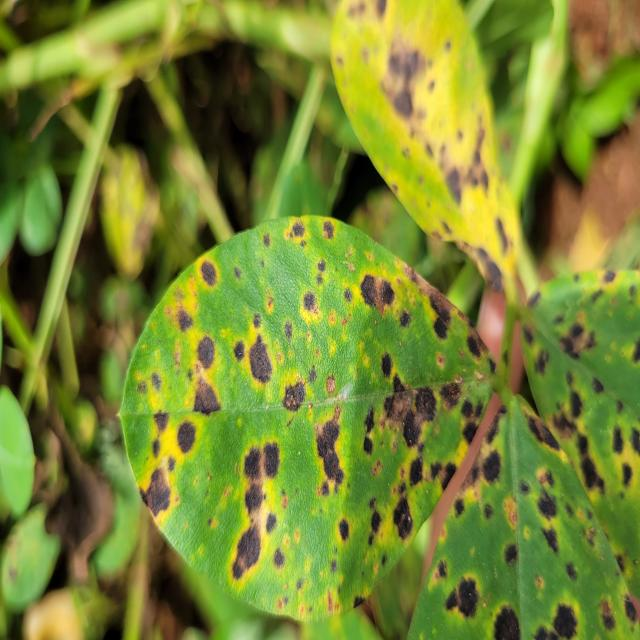Ground nut_tikka leaf spot: (114, 212, 492, 618)
